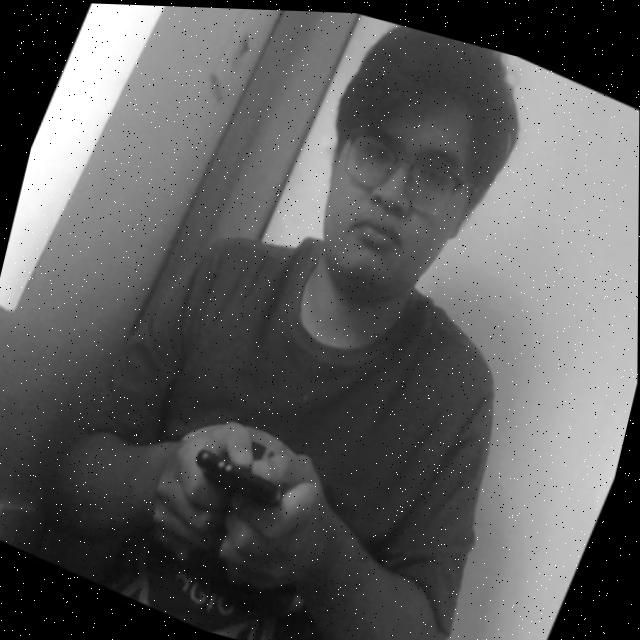phone: (157, 400, 335, 557)
